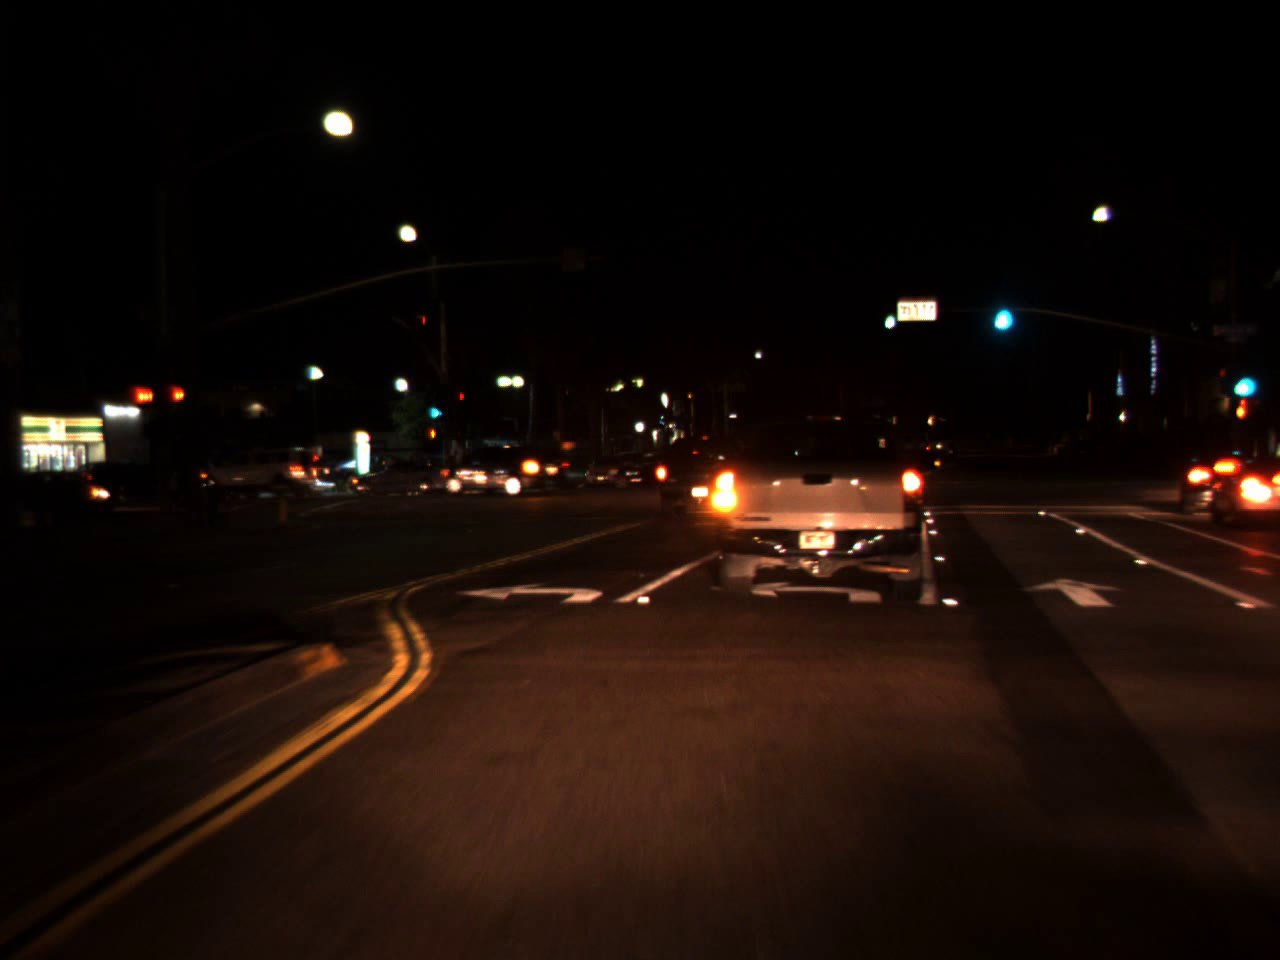go: (1228, 353, 1258, 404), (988, 284, 1016, 338), (874, 294, 895, 333), (425, 389, 446, 425)
